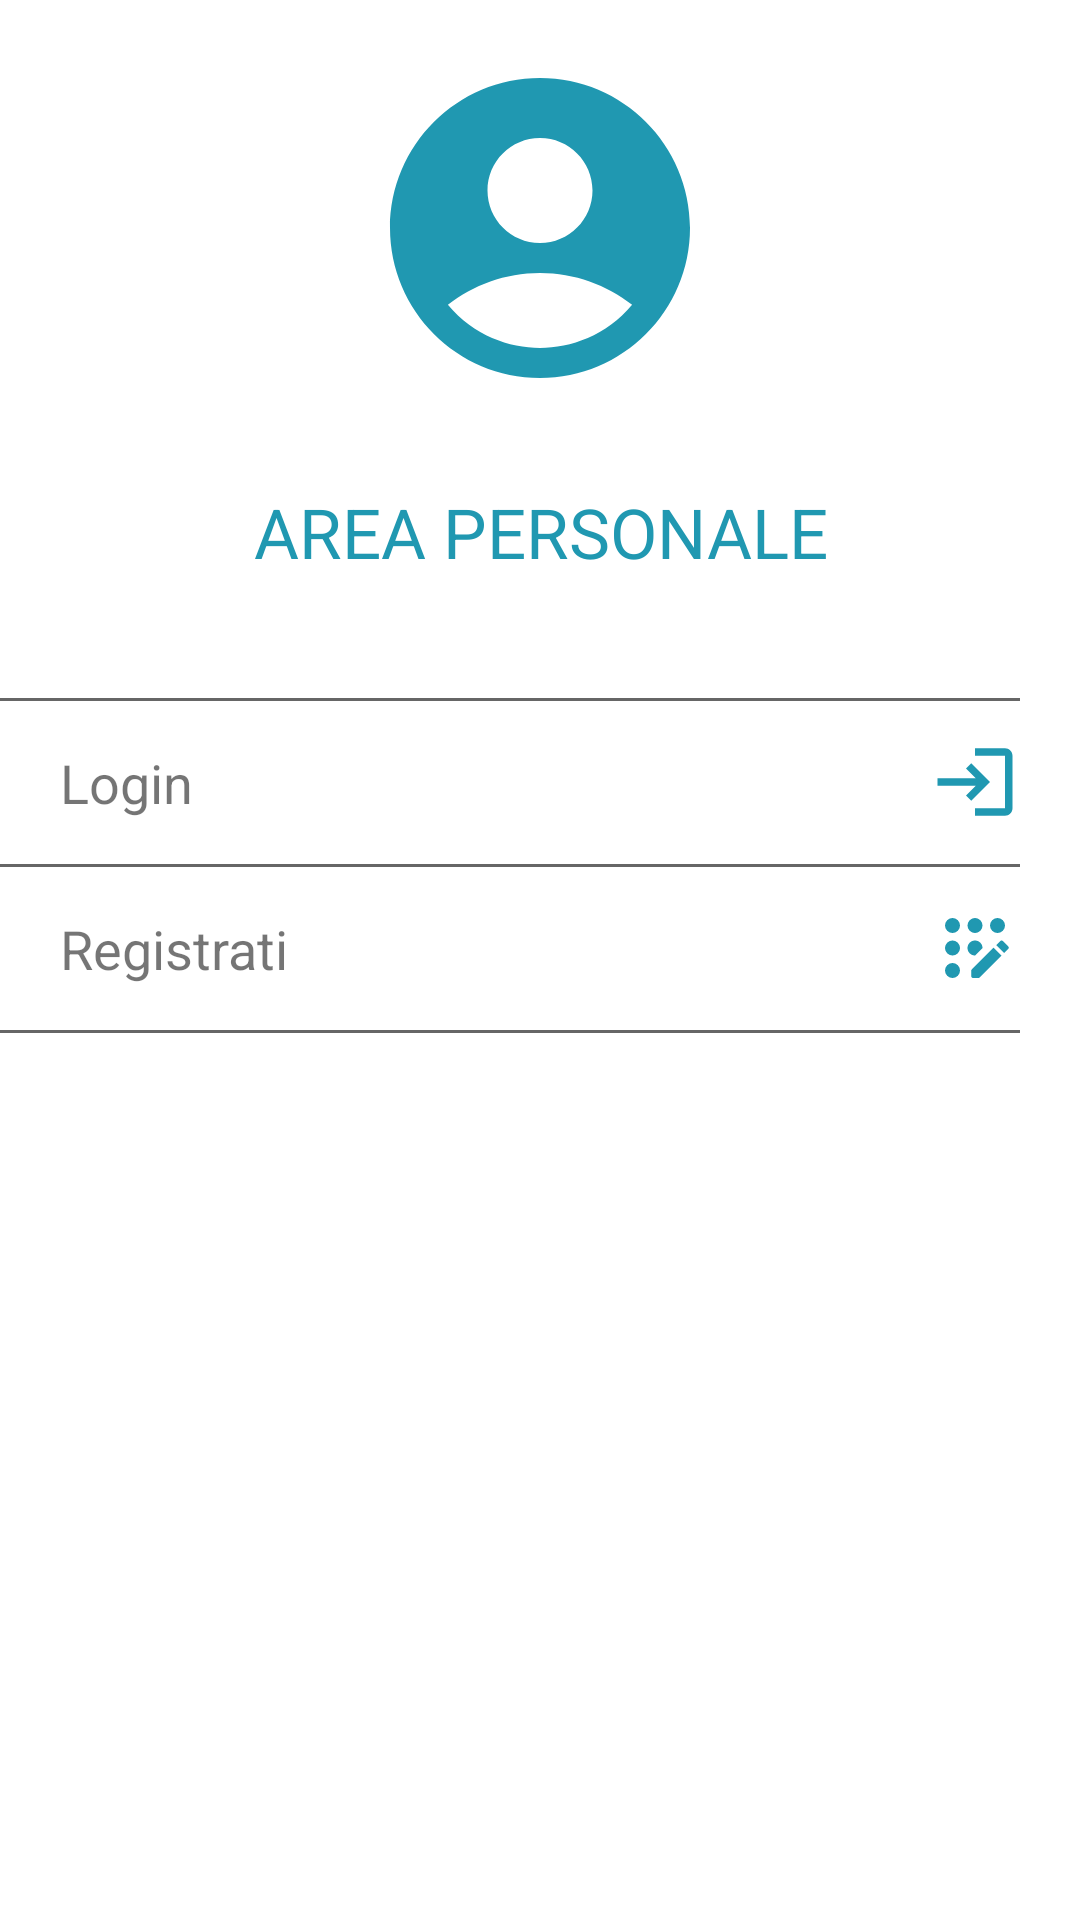

Named icons in this screenshot (1080 x 1920) and their bounding boxes, (x1, y1, x2, y2):
account circle: (390, 78, 690, 378)
